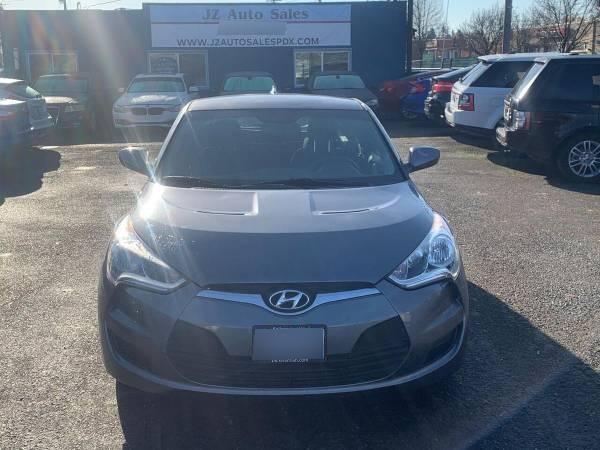Front_Bumper: (98, 266, 203, 389), (376, 258, 465, 379)
Front_Windshield: (156, 105, 406, 189)
Grille: (165, 281, 409, 393)
Hood: (129, 180, 435, 283)
Left_Headlight: (381, 207, 459, 286)
Left_Mirror: (407, 144, 439, 170)
Right_Headlight: (103, 208, 184, 289)
Right_Mirror: (119, 148, 149, 174)
Roof: (180, 90, 368, 113)
